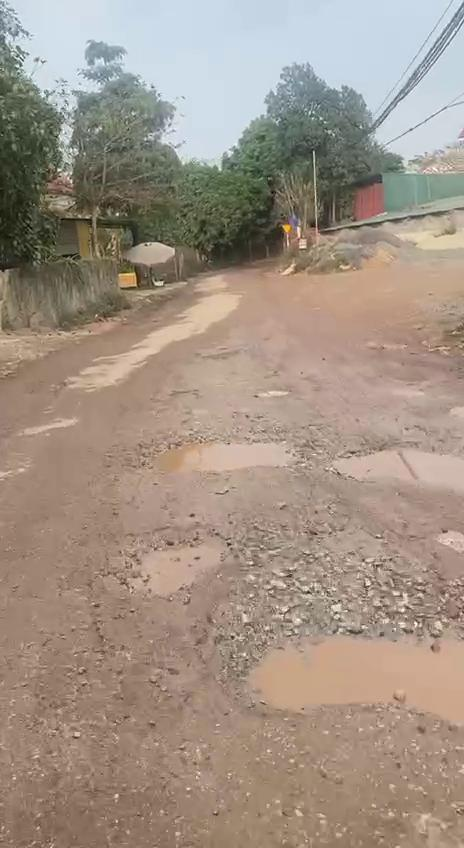pothole: (234, 604, 464, 742), (103, 516, 254, 600), (140, 433, 306, 482), (332, 436, 464, 490)
